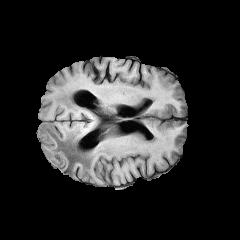glioma: (39, 91, 115, 173)
